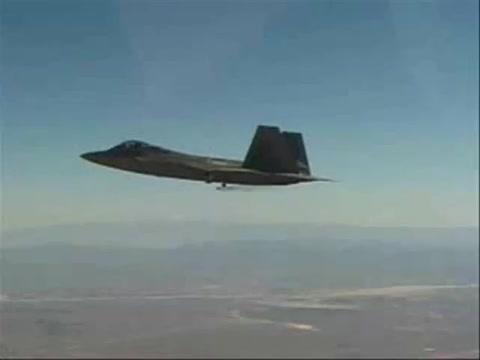aeroplane: (78, 123, 341, 191)
